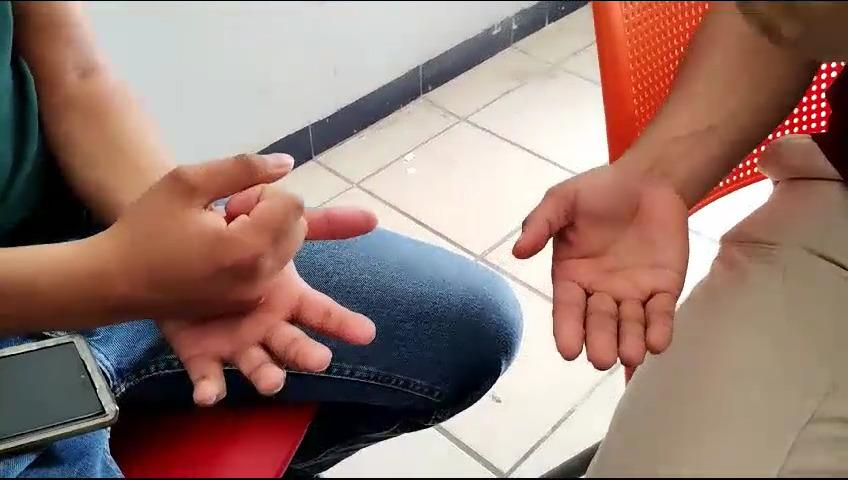Paper: (535, 135, 701, 403)
Stone: (136, 151, 315, 322)
